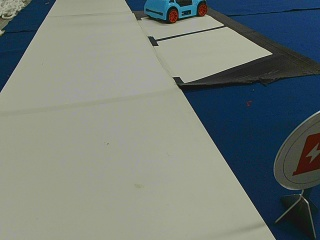battery: (273, 112, 318, 192)
car: (146, 0, 206, 22)
